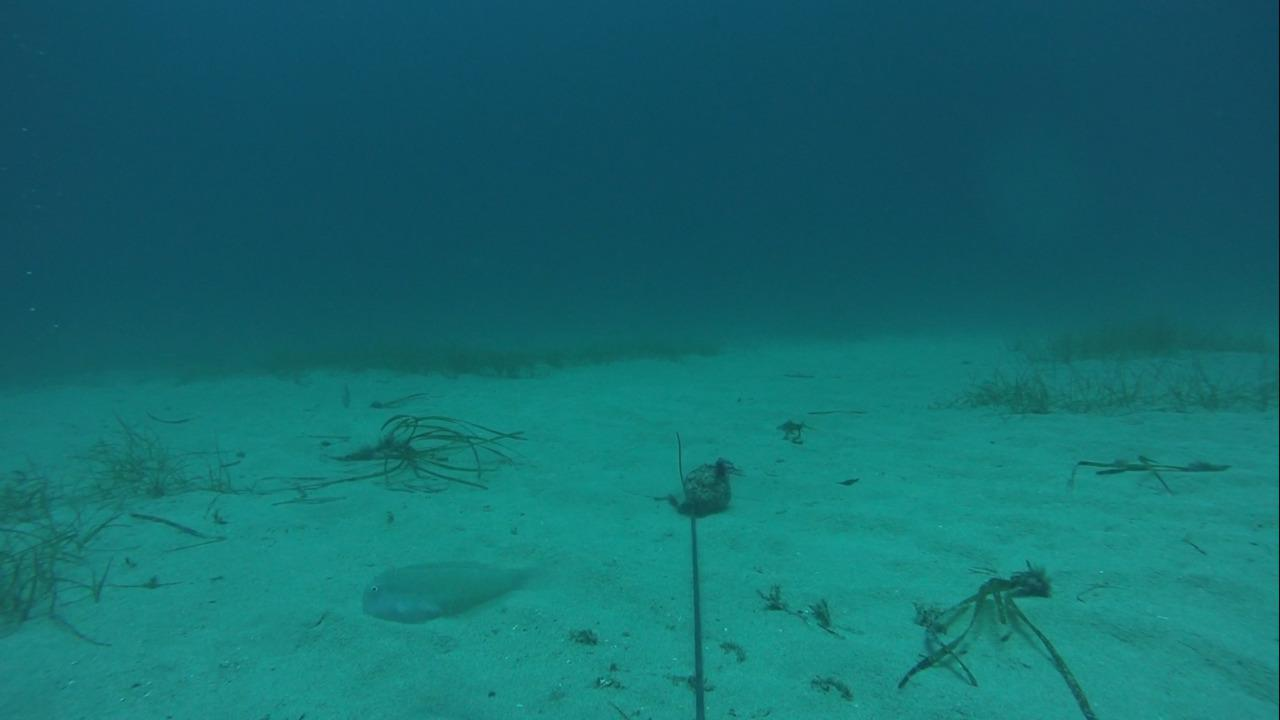raor: (358, 555, 541, 629)
